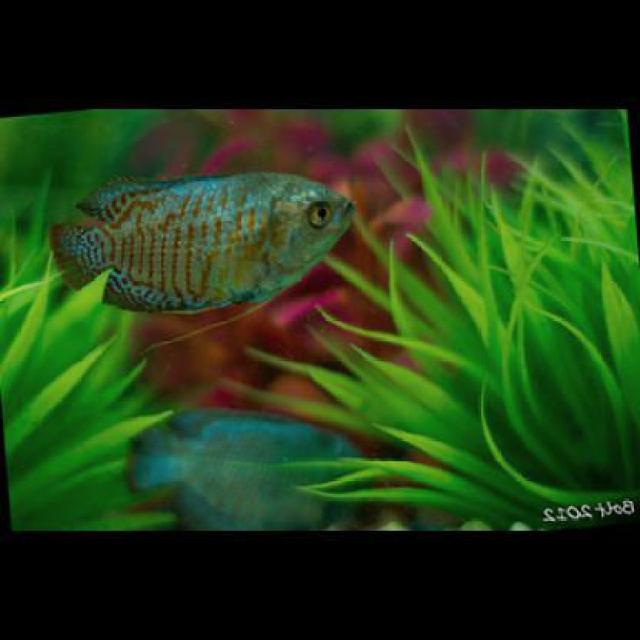Gourami: (45, 160, 358, 308)
